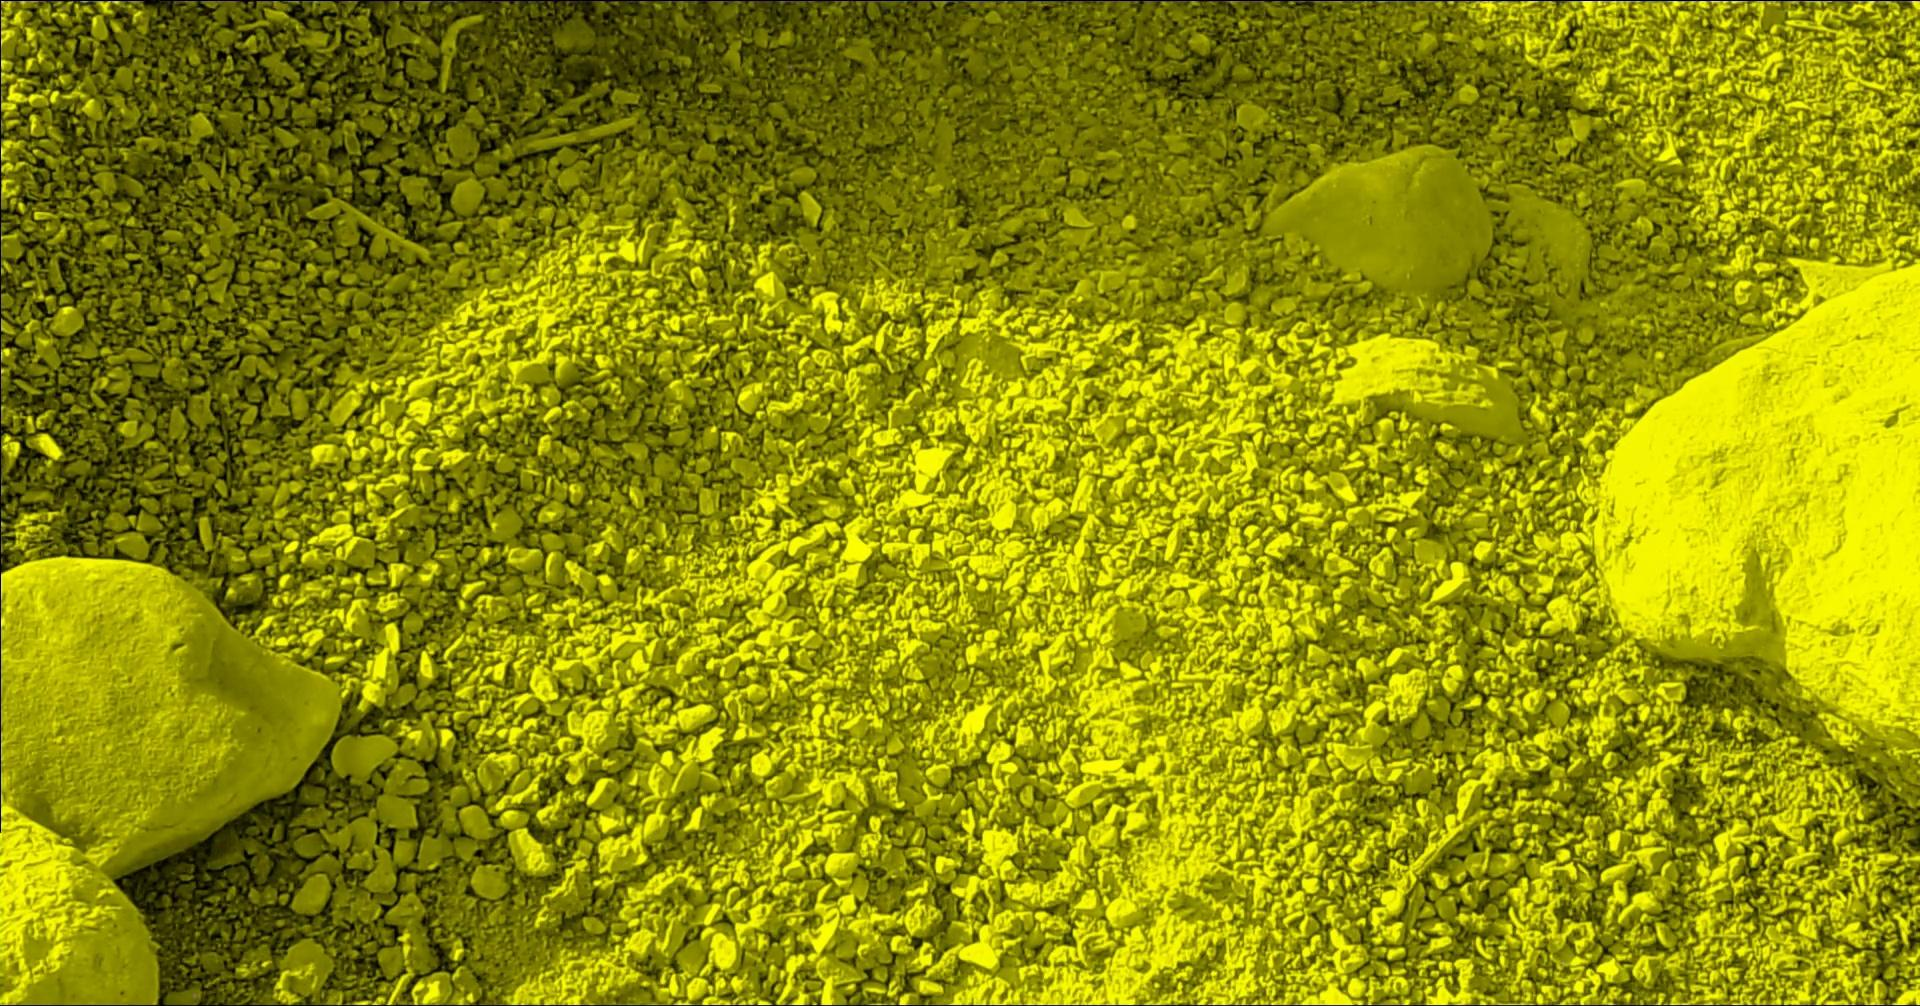ant: (706, 0, 815, 3), (1023, 0, 1190, 1), (947, 0, 1018, 3), (847, 0, 932, 1), (625, 0, 698, 1)
